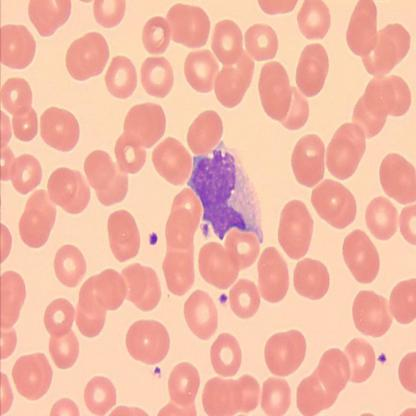Monocyte: (184, 138, 266, 246)
